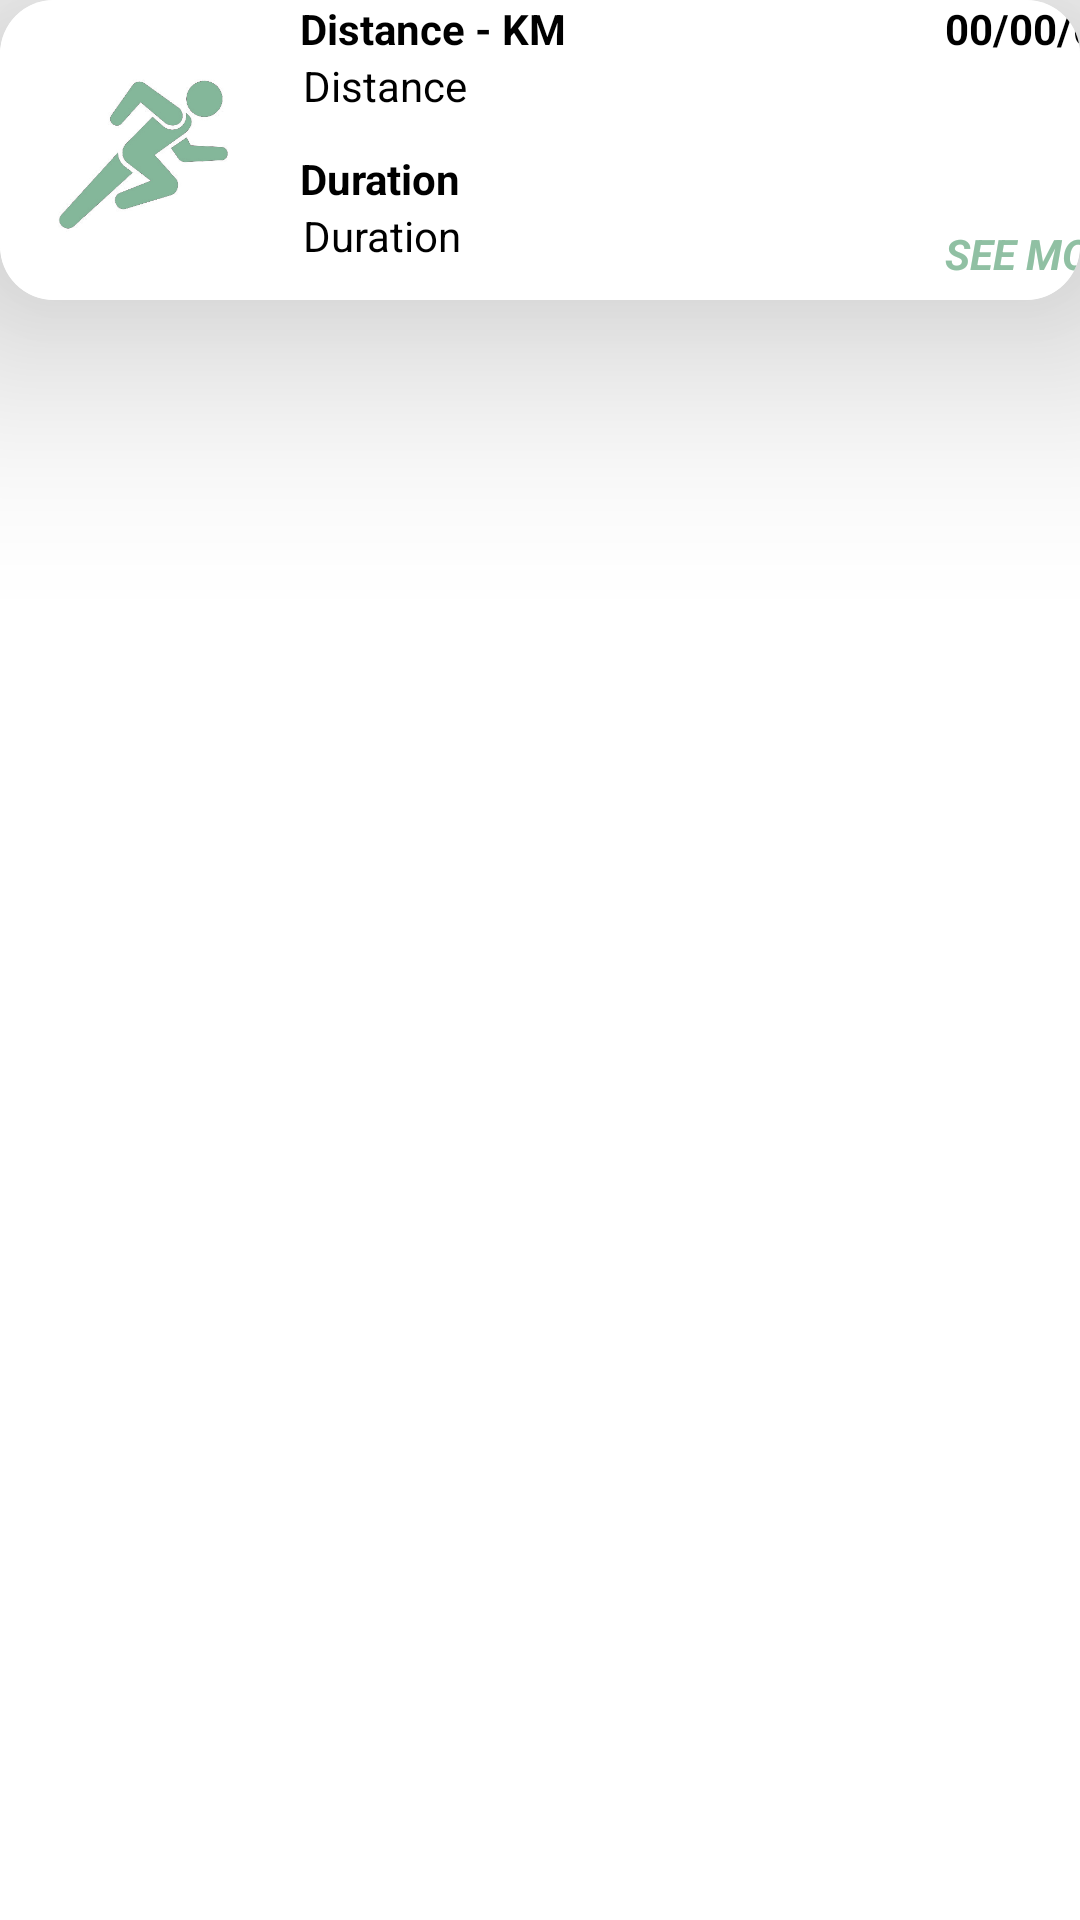

Where to tap for icons on this 1080*1920 app screen, as (x,y):
run: (150,150)
